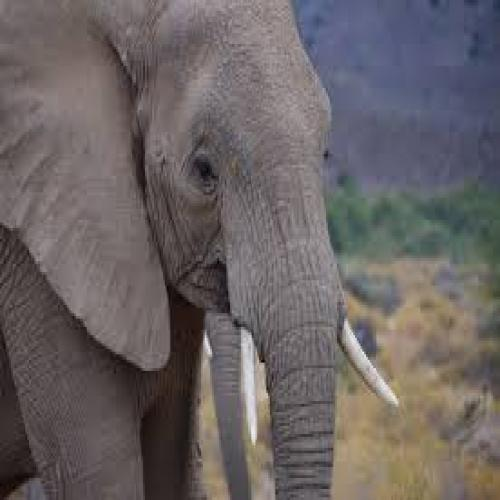asian_elephant-endangered: (0, 0, 398, 497)
